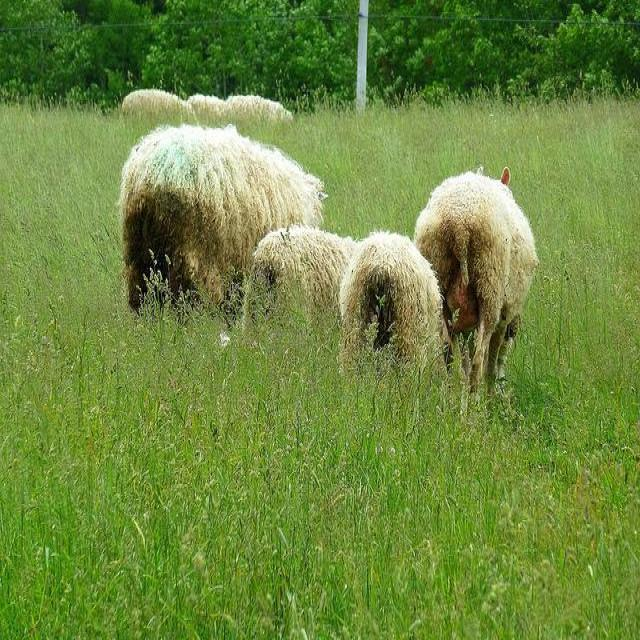Sheep: (118, 124, 328, 321), (408, 165, 542, 438), (339, 234, 449, 378), (242, 228, 367, 333)
